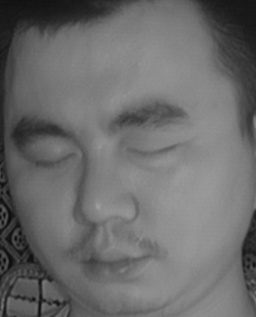blink: (125, 132, 178, 170), (28, 143, 74, 179)
mouth: (74, 237, 149, 287)
